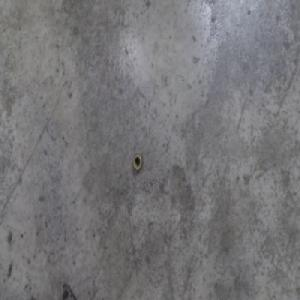Nut: (132, 152, 143, 172)
